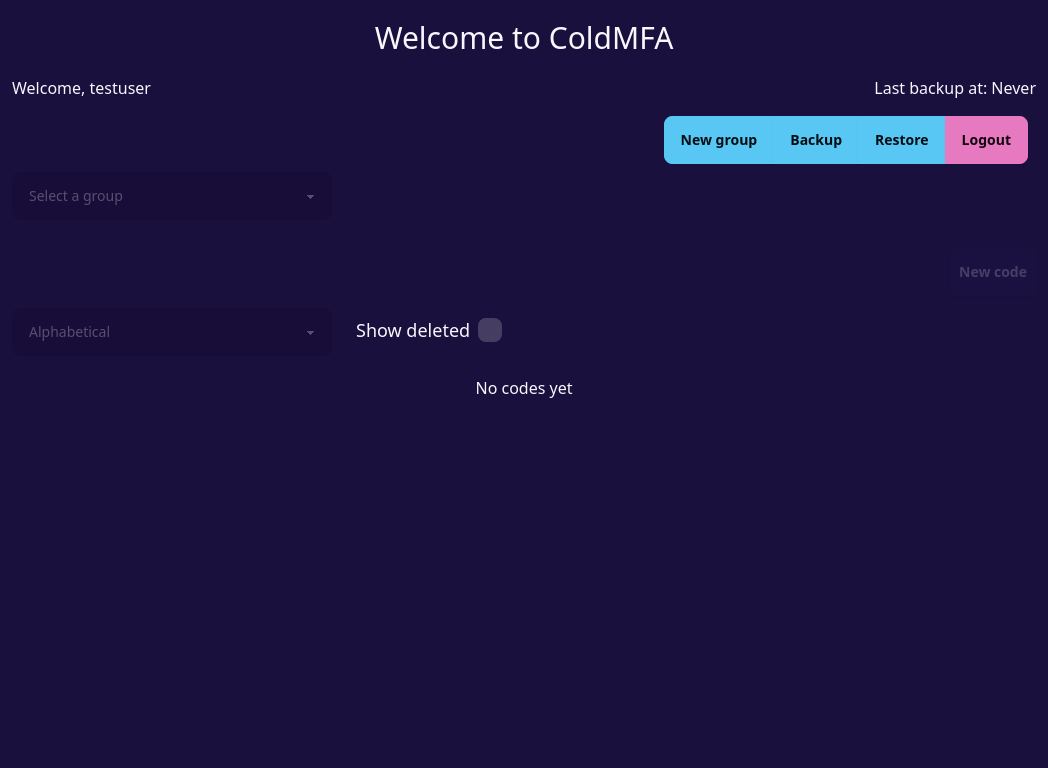
Scenario: CodeGroups › show/hide backup
The width and height of the screenshot is (1048, 768).
Click the button with test id "start-backup": click(816, 140) [773,116,859,164]
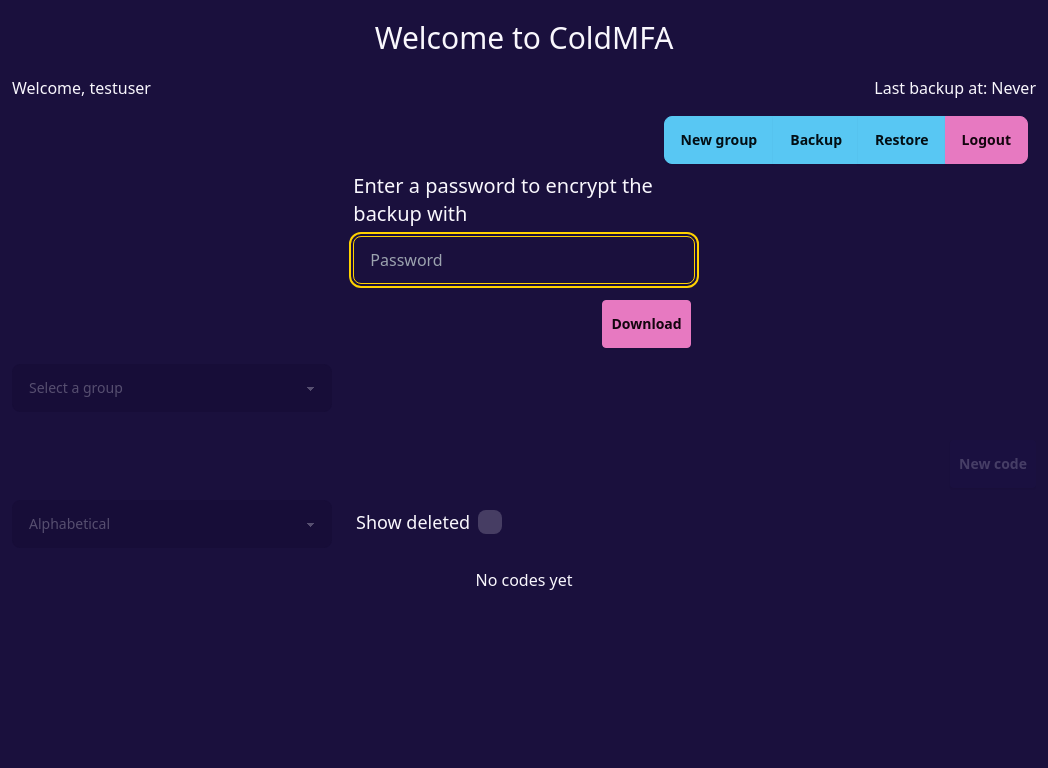
Check: the text "Enter a password to encrypt the backup with" is shown, box [353,172,695,228]
Click the button with test id "start-backup": click(816, 140) [773,116,859,164]
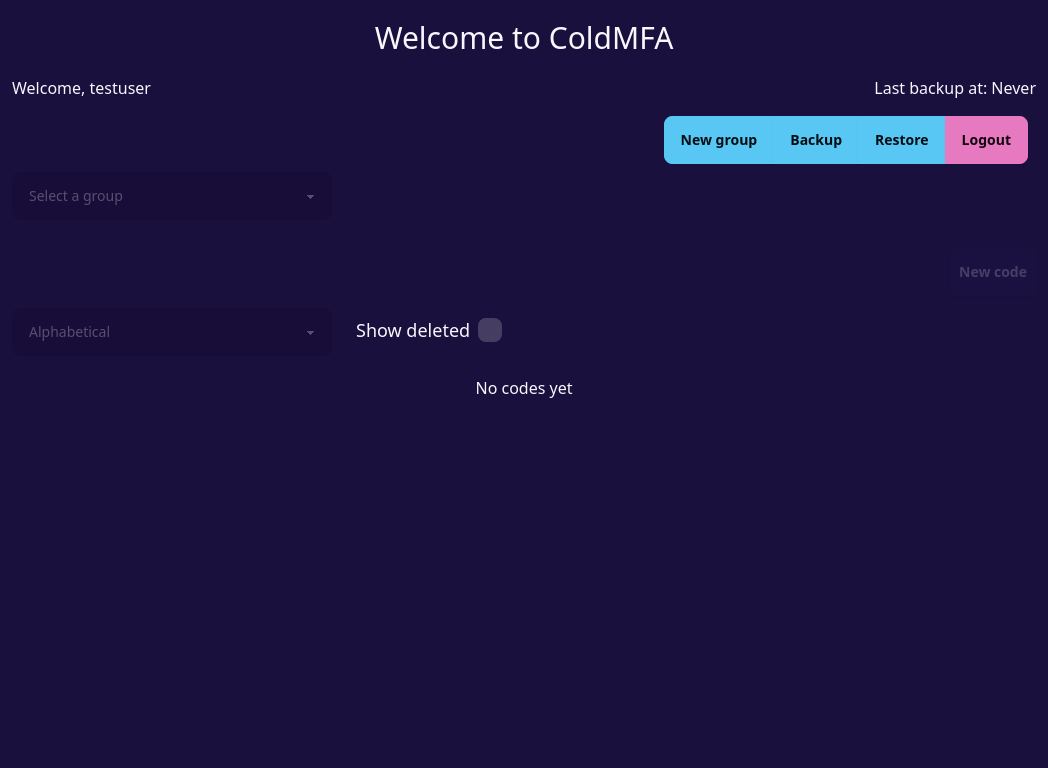
Check: the text "Enter a password to encrypt the backup with" is gone
